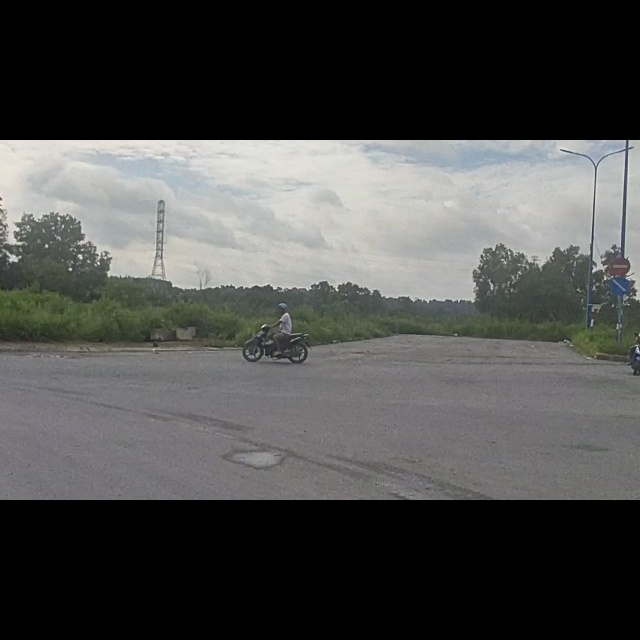bien_chi_dan: (608, 204, 631, 243), (609, 243, 631, 277)
